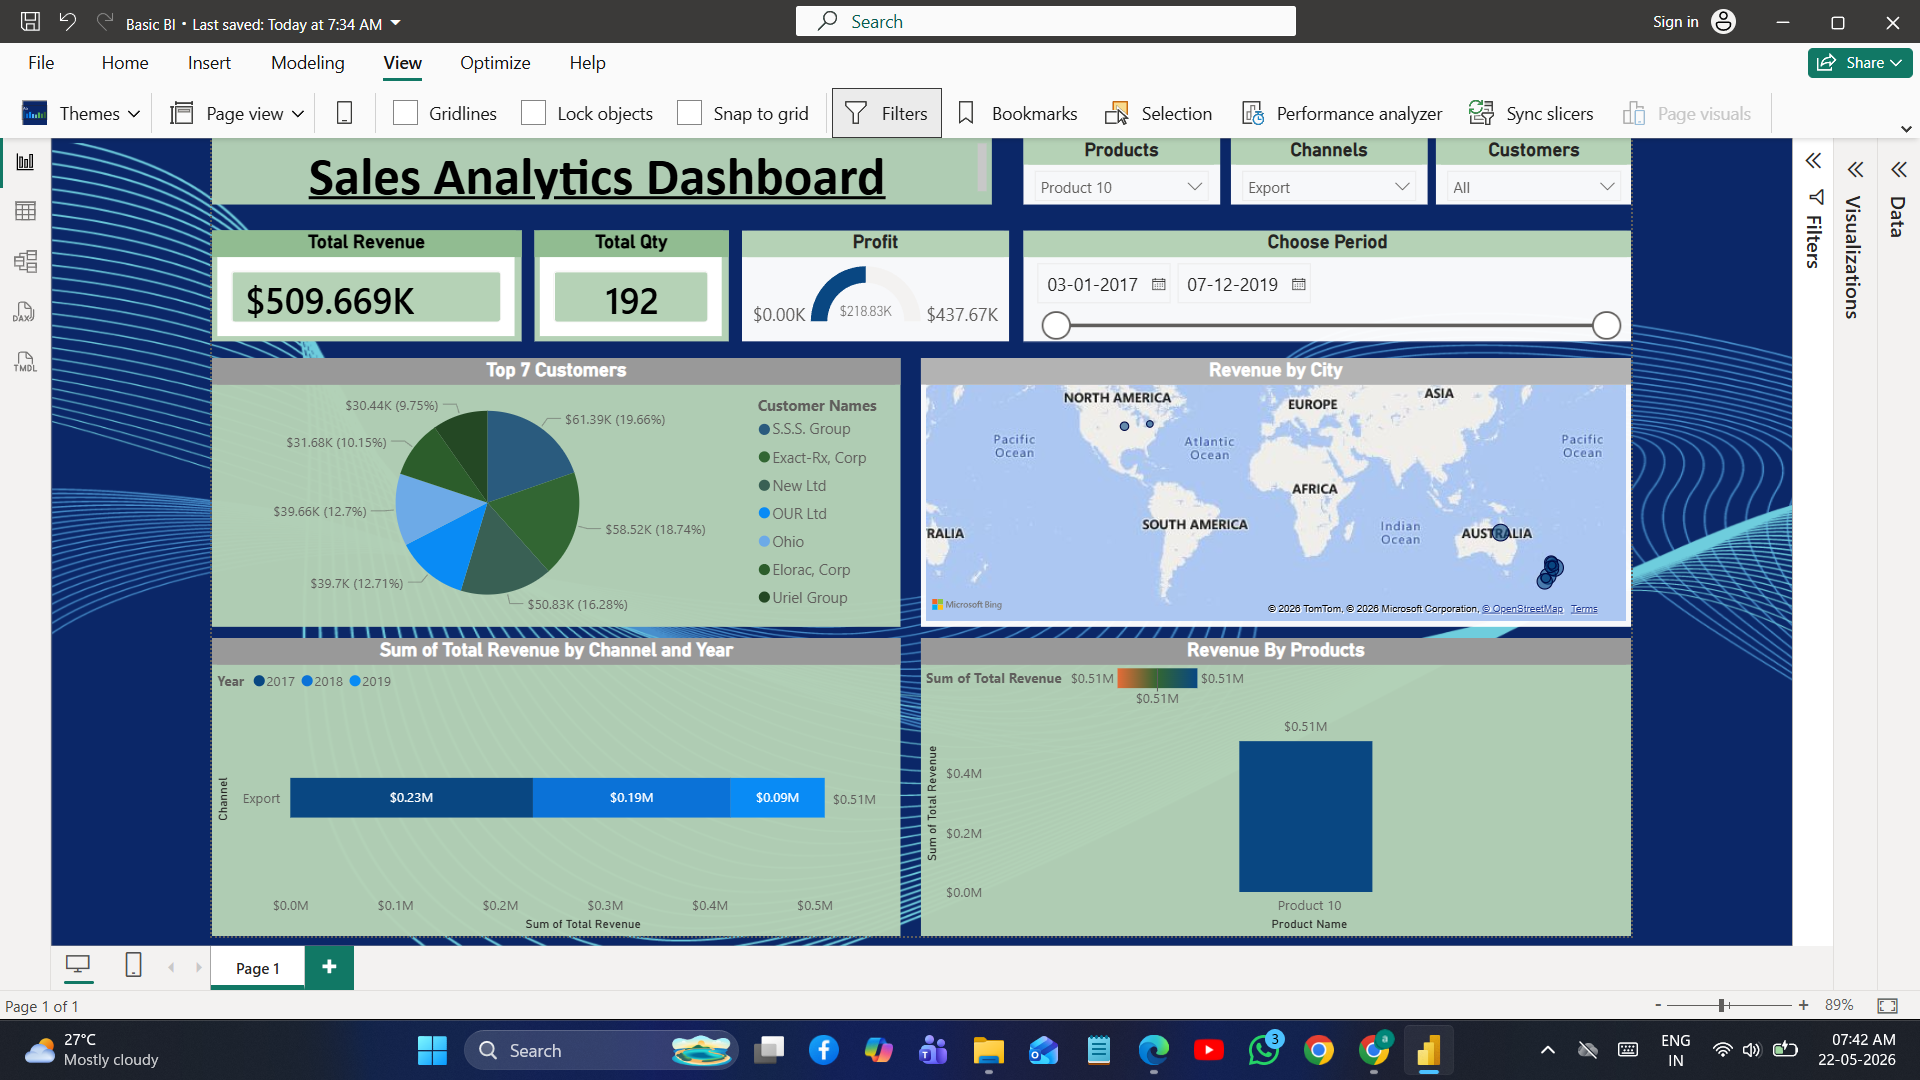

The dashboard page shown, as its layout file describes it:
{"tool":"powerbi","page":{"name":"Page 1","canvas":[1280,720],"ordinal":0},"visuals":[{"type":"barChart","fields":{"Category":["Sales_Data.Channel"],"Y":["Sum(Sales_Data.Total Revenue)"],"Series":["Sales_Data.OrderDate.Variation.Date Hierarchy.Year"]},"box":[0,451.2,621.2,269],"z":0},{"type":"columnChart","title":"Revenue By Products","fields":{"Category":["Products_Data.Product Name","Sales_Data.OrderDate.Variation.Date Hierarchy.Year"],"Y":["Sum(Sales_Data.Total Revenue)"]},"box":[639.5,451.2,640.8,269],"z":1000},{"type":"pieChart","title":"Top 7 Customers","fields":{"Category":["Customer_Data.Customer Names"],"Y":["Sum(Sales_Data.Total Revenue)"]},"box":[0,198.1,621.2,242.1],"z":2000},{"type":"map","title":"Revenue by City","fields":{"Category":["Regions_Table.City"],"Size":["Sum(Sales_Data.Total Revenue)"]},"box":[639.5,198.1,640.8,242.1],"z":3000},{"type":"cardVisual","title":"Total Revenue","fields":{"Data":["Sum(Sales_Data.Total Revenue)"]},"box":[0,83.2,278.8,100.3],"z":4000},{"type":"cardVisual","title":"Total Qty","fields":{"Data":["Sum(Sales_Data.Order Quantity)"]},"box":[291,83.2,174.9,100.3],"z":5000},{"type":"gauge","title":"Profit","fields":{"Y":["Sum(Sales_Data.Profit)"]},"box":[478.1,83.2,240.9,100.3],"z":6000},{"type":"slicer","title":"Choose Period","fields":{"Values":["Sales_Data.OrderDate"]},"box":[731.3,83.2,549.1,100.3],"z":7000},{"type":"slicer","title":"Customers","fields":{"Values":["Customer_Data.Customer Names"]},"box":[1103,0,177.3,59.9],"z":8000},{"type":"slicer","title":"Channels","fields":{"Values":["Sales_Data.Channel"]},"box":[918.3,0,177.3,59.9],"z":9000},{"type":"slicer","title":"Products","fields":{"Values":["Products_Data.Product Name"]},"box":[731.3,0,177.3,59.9],"z":10000},{"type":"textbox","box":[0,0,703.1,59.9],"z":11000}]}

Visuals, with their boxes on the page's 1280x720 design canvas (x1, y1, x2, y2). These are canvas units, not pixel positions in the 1920x1080 screenshot, which may show the page scaled, cropped or inside an application window:
barChart - Sales_Data.Channel x Sum(Sales_Data.Total Revenue): 0, 451, 621, 720
"Revenue By Products" columnChart: 640, 451, 1280, 720
"Top 7 Customers" pieChart: 0, 198, 621, 440
"Revenue by City" map: 640, 198, 1280, 440
"Total Revenue" cardVisual: 0, 83, 279, 184
"Total Qty" cardVisual: 291, 83, 466, 184
"Profit" gauge: 478, 83, 719, 184
"Choose Period" slicer: 731, 83, 1280, 184
"Customers" slicer: 1103, 0, 1280, 60
"Channels" slicer: 918, 0, 1096, 60
"Products" slicer: 731, 0, 909, 60
textbox: 0, 0, 703, 60
